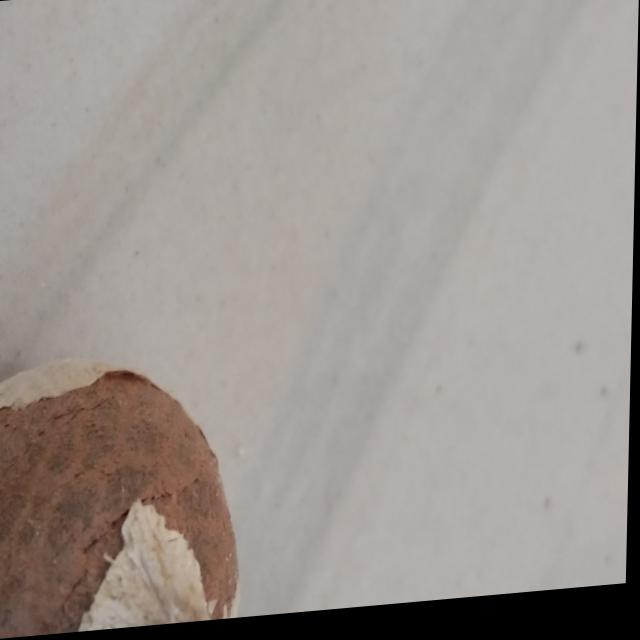phatora: (0, 340, 264, 640)
